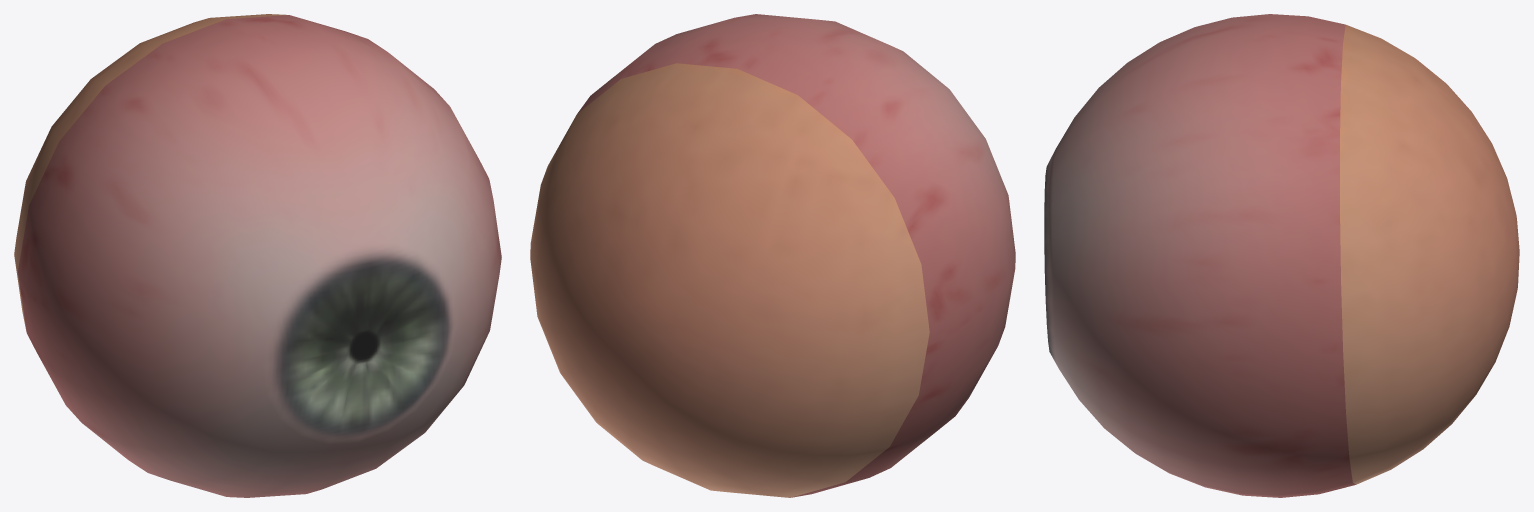
The model's file is eyeSmall.fbx.
The picture shows the model from 3 angles, left to right: view 1: azimuth 30°, elevation 25°; view 2: azimuth 150°, elevation 25°; view 3: azimuth 270°, elevation 25°; orthographic projection.
Visible parts, largest first — view 1: polySurface3; view 2: polySurface3; view 3: polySurface3.
Part boxes in pixels (left/top/right/bottom): polySurface3: left=14, top=14, right=501, bottom=497; polySurface3: left=530, top=14, right=1015, bottom=497; polySurface3: left=1044, top=14, right=1519, bottom=497.
Bounding box in the file's own units: 3.43 × 3.42 × 3.34.
Materials: 1 (1 with a texture image).
